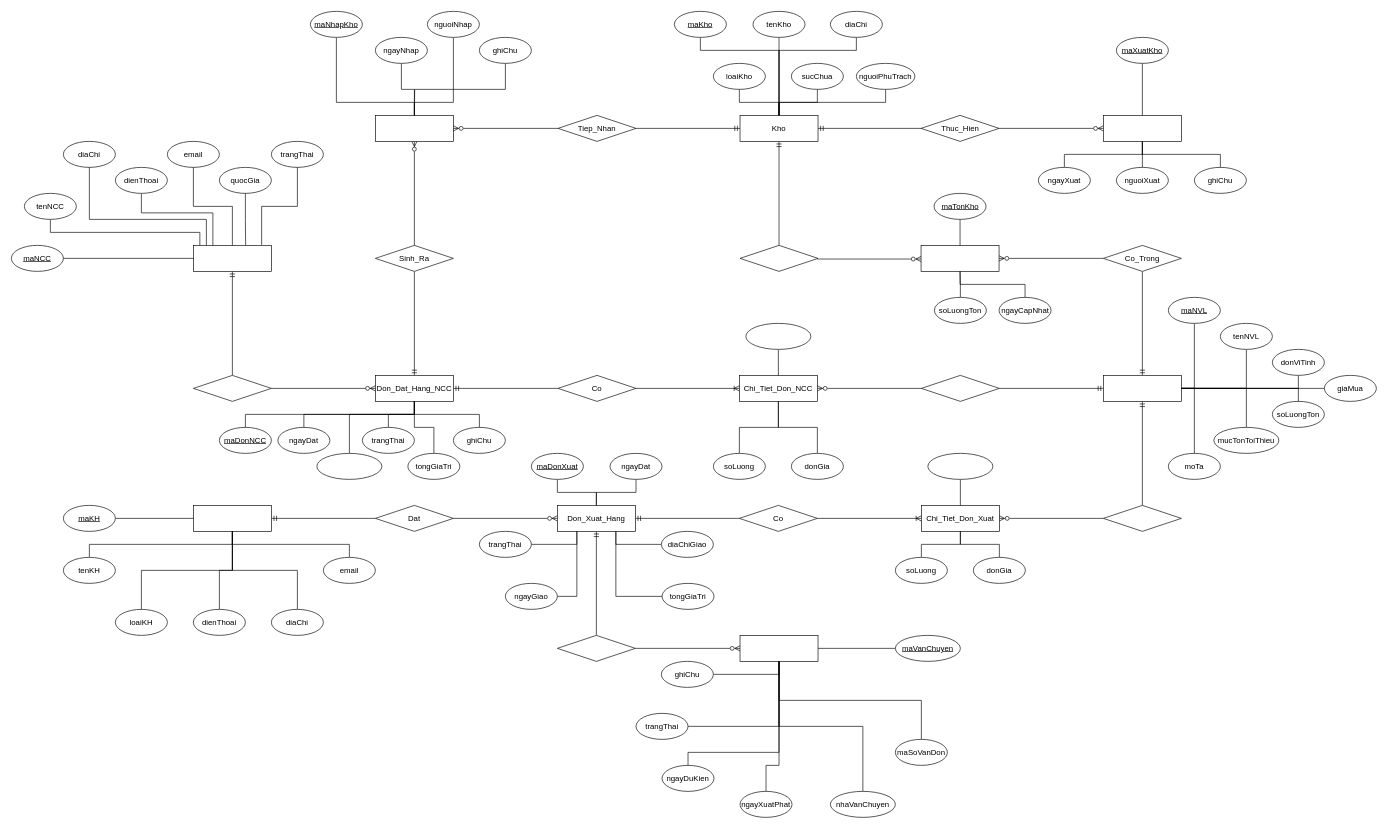
This 1388x829 diagram has some shape labels left out. The shapes that lost their labels are listed below. From the top down, each one's box as (x1, y1, x2, y2) in pixels, then its label:
(375, 115, 453, 141): Nhap_Kho
(1103, 115, 1181, 141): Xuat_Kho
(193, 245, 271, 271): Nha_Cung_Cap
(739, 245, 818, 271): Luu_Tru
(920, 245, 999, 271): Ton_Kho
(745, 323, 811, 349): maCTDonNCC
(193, 375, 271, 401): Cung_Cap
(921, 375, 999, 401): Xuat_Hien_Trong
(1103, 375, 1181, 401): Nguyen_Vat_Lieu
(316, 453, 382, 479): ngayGiaoHang
(927, 453, 993, 479): maCTDonXuat
(193, 505, 271, 531): Khach_Hang
(1103, 505, 1181, 531): Nam_Trong
(557, 635, 635, 661): Can
(739, 635, 818, 661): Van_Chuyen
